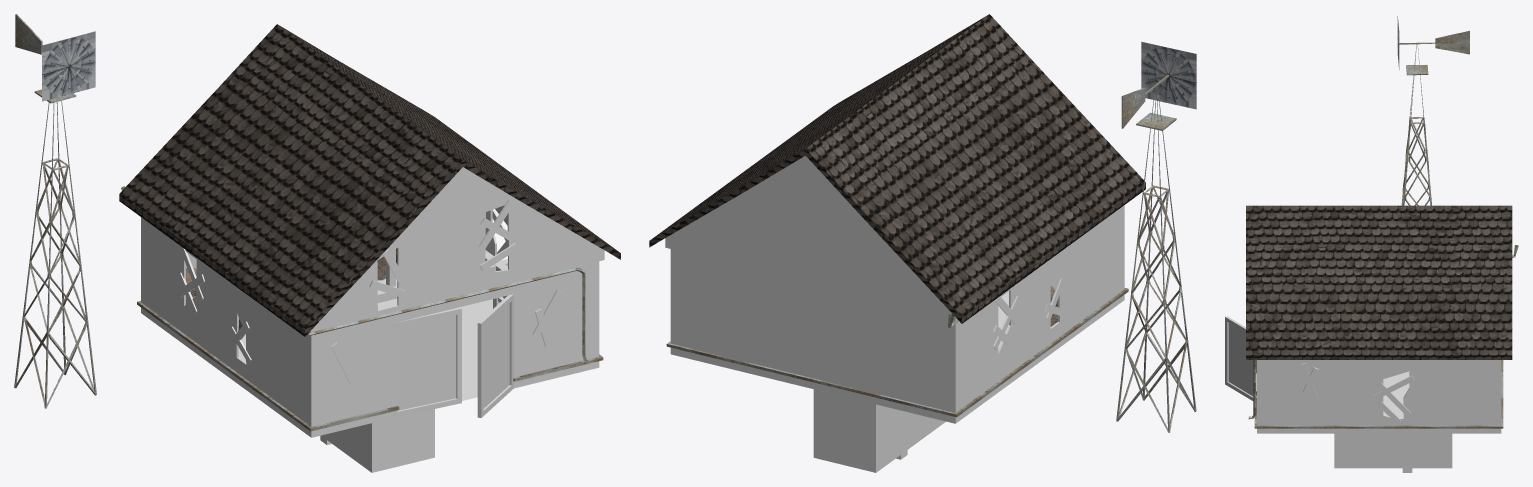
The model's file is Barn.fbx.
3 renders of one model, left to right at view 1: azimuth 30°, elevation 25°; view 2: azimuth 150°, elevation 25°; view 3: azimuth 270°, elevation 25°, orthographic. The views are drawn at different scales.
Visible parts, largest first — view 1: BarnWalls, WindMill, Door1.001, Plane.047, Door1.009, Pipe, Cube.043; view 2: BarnWalls, WindMill, Plane.047; view 3: BarnWalls, Plane.047, WindMill, Door1.009.
Part boxes in pixels (left/top/right/bottom): BarnWalls: left=119, top=24, right=620, bottom=437; WindMill: left=14, top=14, right=96, bottom=408; Door1.001: left=393, top=307, right=461, bottom=417; Plane.047: left=321, top=409, right=434, bottom=472; Door1.009: left=477, top=294, right=513, bottom=417; Pipe: left=121, top=186, right=589, bottom=364; Cube.043: left=377, top=249, right=507, bottom=309; BarnWalls: left=649, top=14, right=1145, bottom=423; WindMill: left=1116, top=41, right=1196, bottom=432; Plane.047: left=813, top=389, right=945, bottom=472; BarnWalls: left=1246, top=205, right=1512, bottom=433; Plane.047: left=1334, top=378, right=1452, bottom=468; WindMill: left=1397, top=16, right=1469, bottom=205; Door1.009: left=1225, top=316, right=1256, bottom=400.
Bounding box in the file's own units: 2426 × 2315 × 1822.
